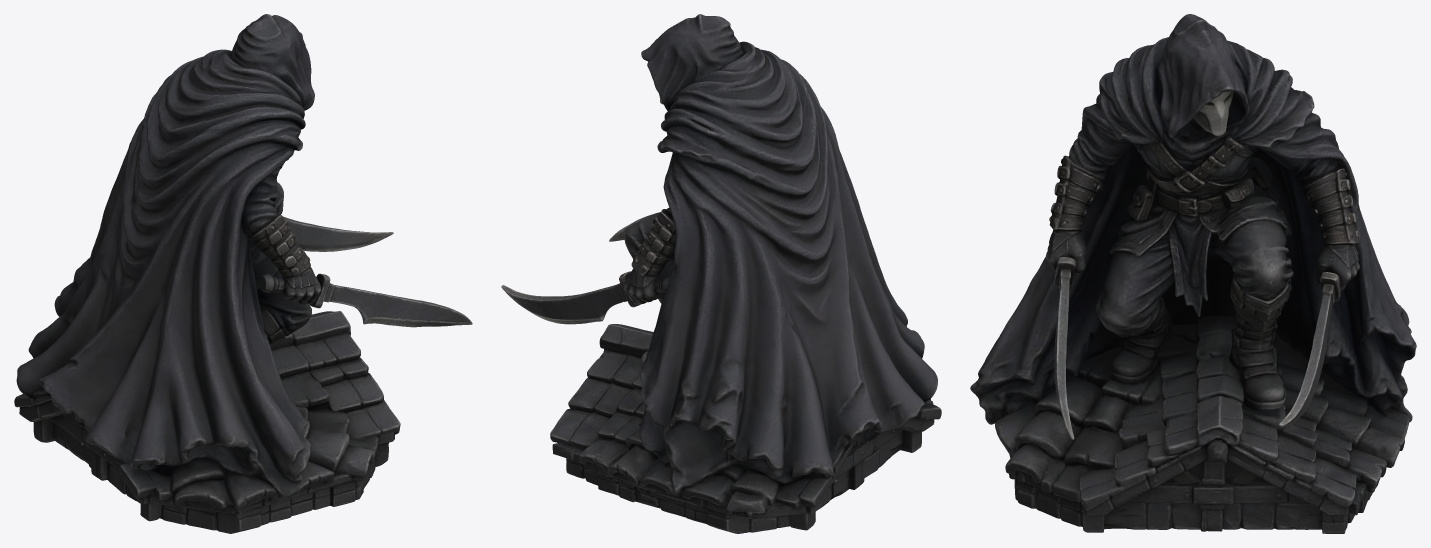
The model's file is compress_o10xx9s52zo-2etb.glb.
3 views of the same model, side by side, from view 1: azimuth 30°, elevation 25°; view 2: azimuth 150°, elevation 25°; view 3: azimuth 270°, elevation 25° (orthographic). The views are drawn at different scales.
Parts seen in each view (by area): view 1: tripo_node_ec90ff34-16cc-495f-897d-84811a77dc28; view 2: tripo_node_ec90ff34-16cc-495f-897d-84811a77dc28; view 3: tripo_node_ec90ff34-16cc-495f-897d-84811a77dc28.
Part boxes in pixels (left/top/right/bottom): tripo_node_ec90ff34-16cc-495f-897d-84811a77dc28: left=14, top=14, right=472, bottom=533; tripo_node_ec90ff34-16cc-495f-897d-84811a77dc28: left=501, top=14, right=941, bottom=533; tripo_node_ec90ff34-16cc-495f-897d-84811a77dc28: left=970, top=14, right=1416, bottom=533.
Size of the model in its own units: 0.8841 by 1 by 0.8467.
Materials: 1 (1 with a texture image).
